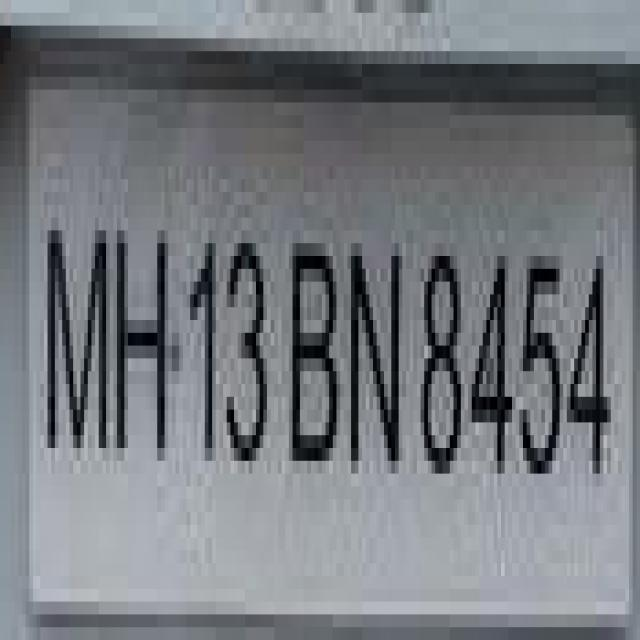1: (184, 212, 224, 479)
3: (224, 227, 271, 476)
4: (568, 225, 620, 472), (470, 230, 515, 488)
5: (520, 228, 564, 507)
8: (418, 232, 466, 517)
B: (286, 213, 344, 480)
H: (114, 194, 178, 488)
M: (36, 184, 112, 463)
N: (348, 202, 401, 500)
